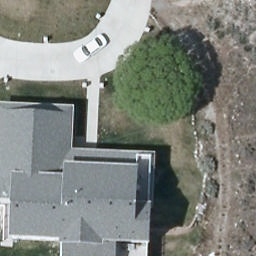car: (70, 32, 113, 64)
